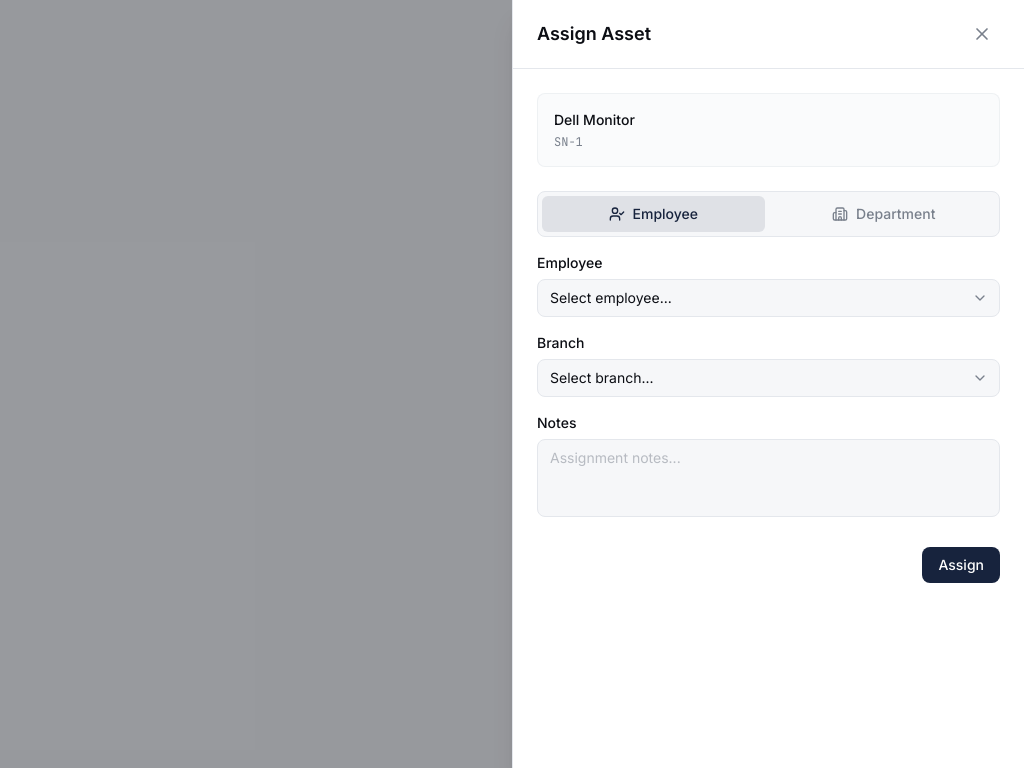
Test: AssignmentPanel › shows a validation error when submitting without a branch
Click the button "Assign" at [961, 565], box [922,547,1000,583]
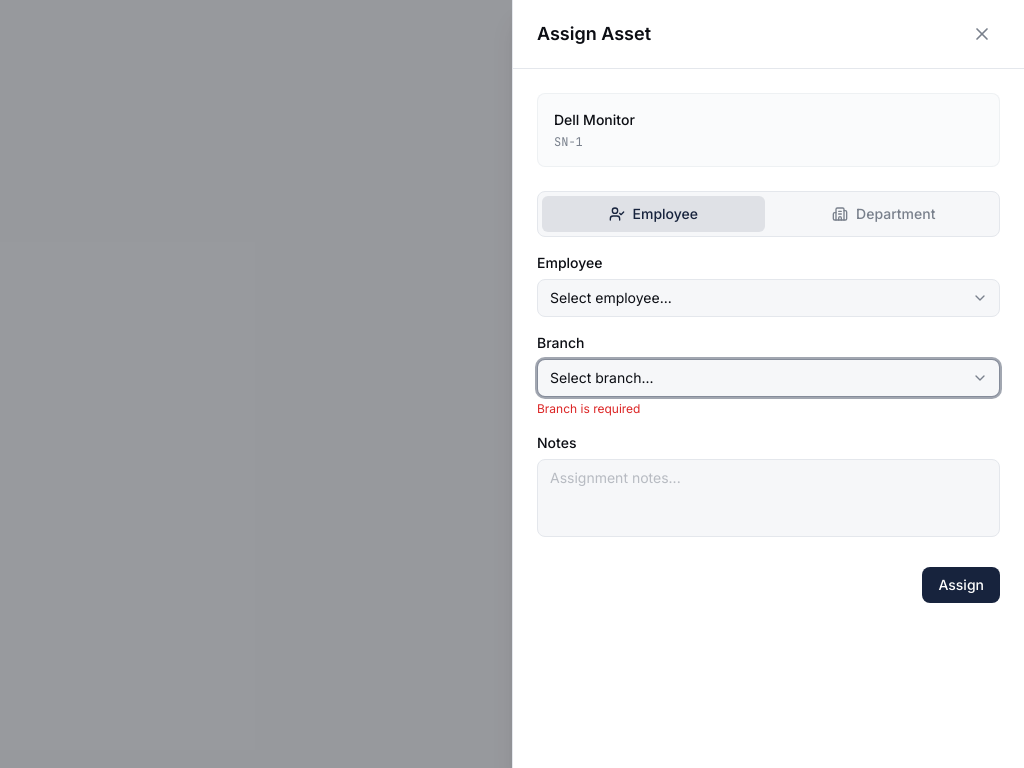
Check: the text "Branch is required" is shown, box [537,401,640,416]
